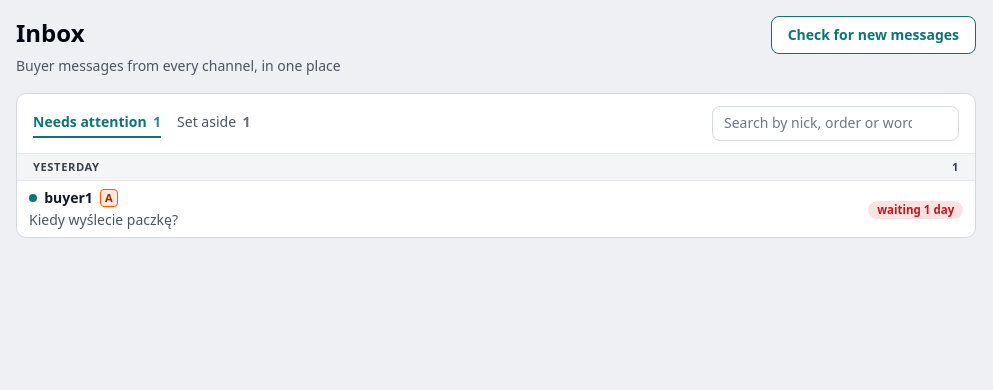
Test case: the open conversation › keeps how long the buyer waited in its head, as the list knew it
Step 1. Click the button "buyer1 A Kiedy wyślecie paczkę? waiting 1 day" → x=69, y=197, box [17, 180, 975, 237]
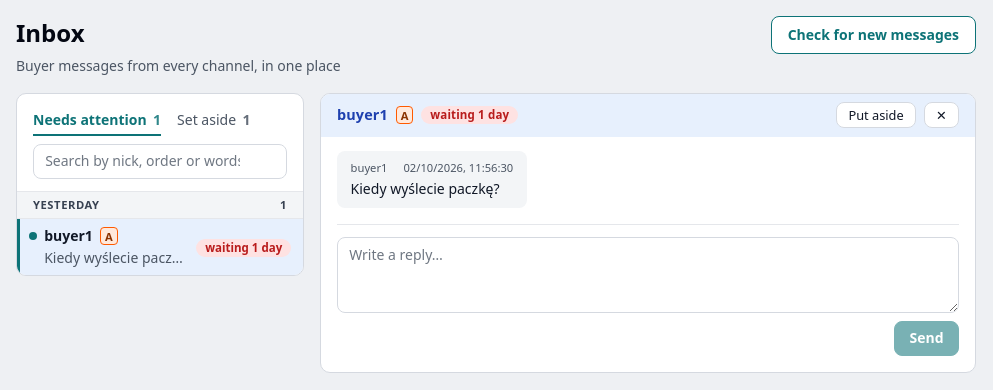
Now the 1st text "waiting 1 day" is shown, box [422, 106, 518, 124]
